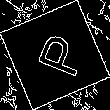P_W: (25, 28, 85, 82)
